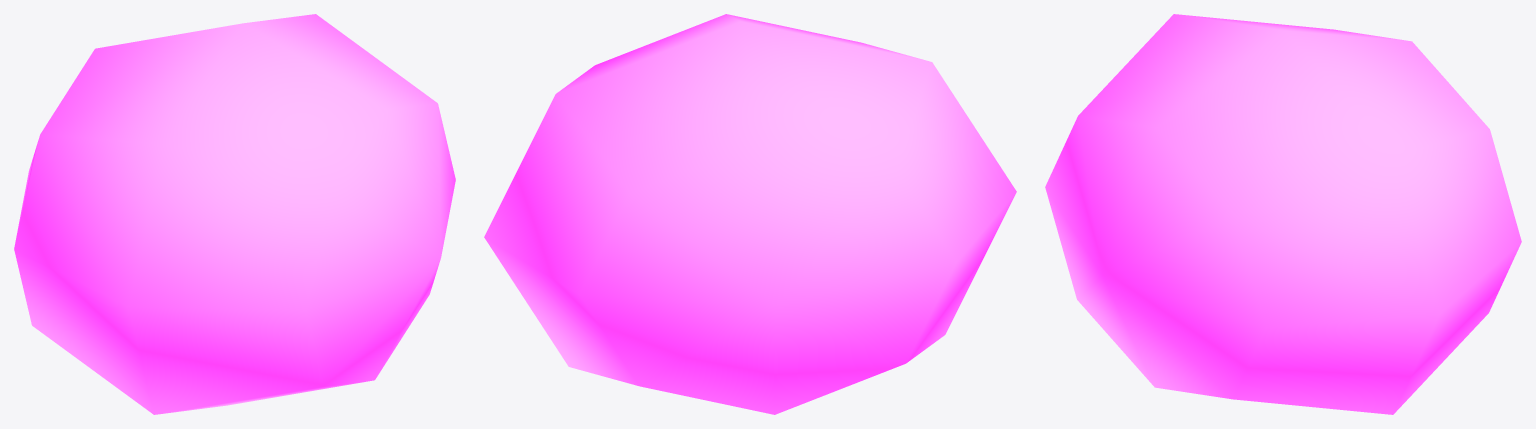
3 renders of one model, left to right at view 1: azimuth 30°, elevation 25°; view 2: azimuth 150°, elevation 25°; view 3: azimuth 270°, elevation 25°, orthographic.
Visible parts, largest first — view 1: Sphere239_Material_0_0; view 2: Sphere239_Material_0_0; view 3: Sphere239_Material_0_0.
Boxes of the visible parts, box(x1,y1,x2,y2) form: Sphere239_Material_0_0: box(14, 14, 455, 414); Sphere239_Material_0_0: box(484, 14, 1016, 414); Sphere239_Material_0_0: box(1045, 14, 1521, 414).
Bounding box in the file's own units: 0.0242 × 0.0205 × 0.0236.
1 material, 1 textured.
